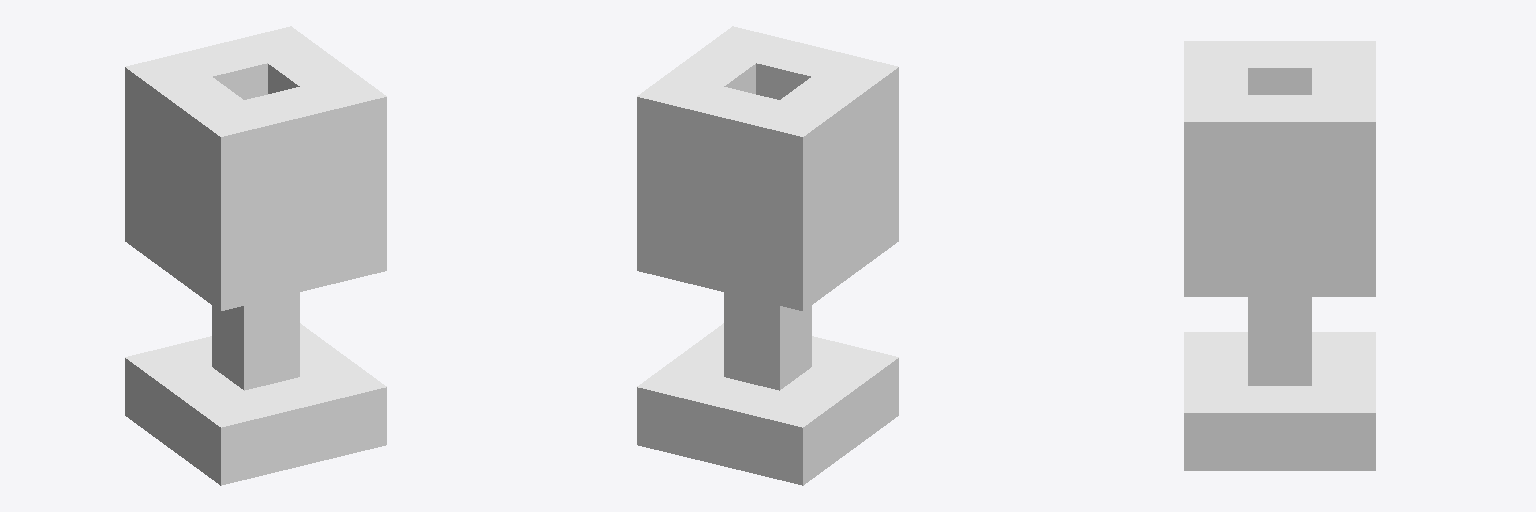
Rendered from Calice.obj.
The picture shows the model from 3 angles: view 1: azimuth 30°, elevation 25°; view 2: azimuth 150°, elevation 25°; view 3: azimuth 270°, elevation 25°; orthographic projection.
Parts seen in each view (by area): view 1: object 1; view 2: object 1; view 3: object 1.
Boxes of the visible parts, x1=… form: object 1: x1=125, y1=26, x2=386, y2=485; object 1: x1=637, y1=26, x2=898, y2=485; object 1: x1=1184, y1=41, x2=1375, y2=470.
Size of the model in its own units: 0.3 by 0.6 by 0.3.